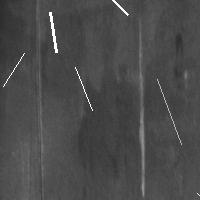scratches: (32, 1, 47, 177), (152, 74, 186, 149), (135, 29, 148, 196), (70, 62, 97, 115), (0, 48, 29, 91), (80, 0, 133, 20), (45, 7, 61, 57), (192, 188, 200, 200)
